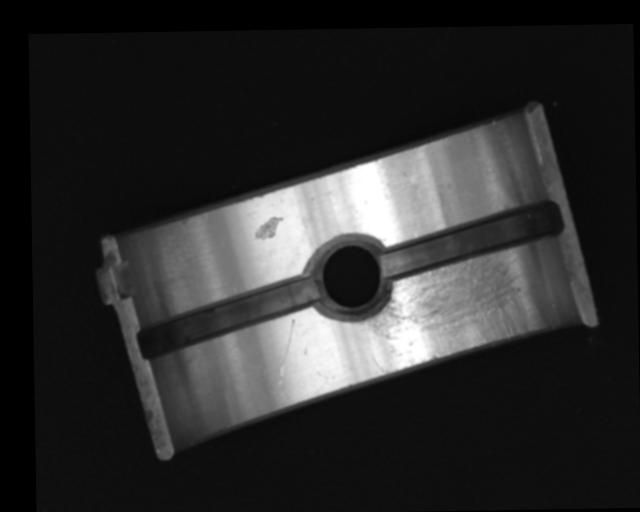bruise: (252, 216, 284, 242)
gap: (137, 273, 318, 358), (379, 199, 563, 277)
hole: (309, 233, 390, 323)
nick: (278, 317, 297, 386)
scratch: (364, 240, 546, 372)
